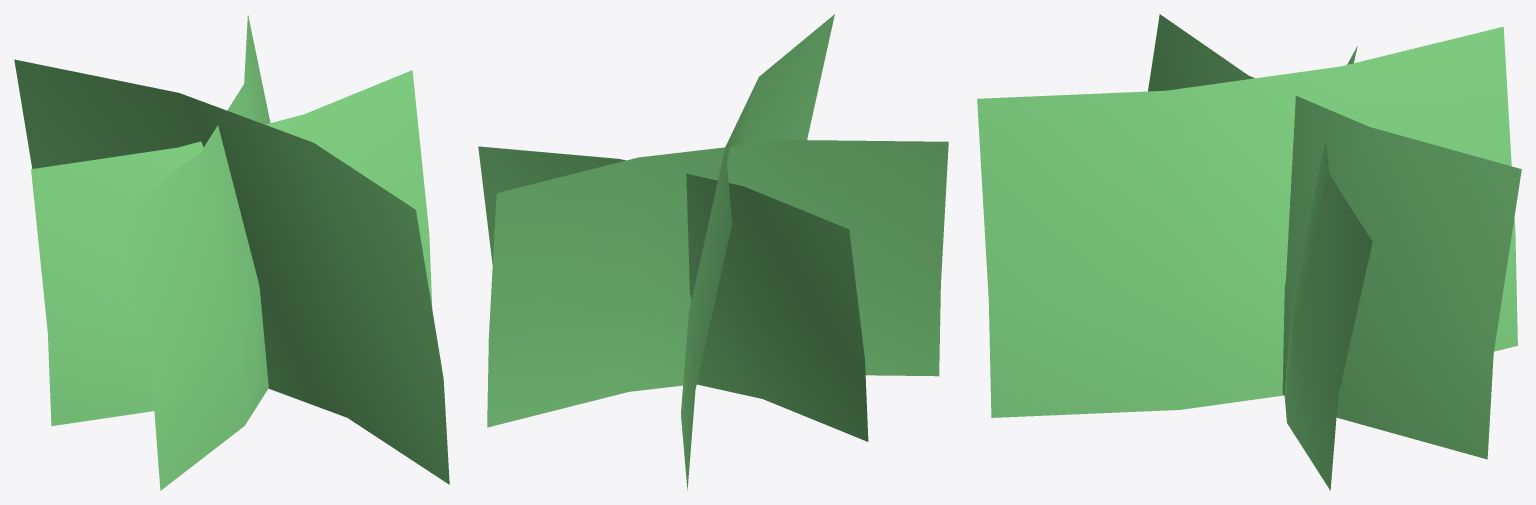
The model's file is GrassPlanes_a_TwoS_10.fbx.
3 views of the same model, side by side, from view 1: azimuth 30°, elevation 25°; view 2: azimuth 150°, elevation 25°; view 3: azimuth 270°, elevation 25° (orthographic). The views are drawn at different scales.
Visible parts, largest first — view 1: GrassPlanes_a_TwoS_10; view 2: GrassPlanes_a_TwoS_10; view 3: GrassPlanes_a_TwoS_10.
Boxes of the visible parts, box(x1,y1,x2,y2) form: GrassPlanes_a_TwoS_10: box(14, 15, 449, 490); GrassPlanes_a_TwoS_10: box(478, 14, 948, 490); GrassPlanes_a_TwoS_10: box(977, 14, 1521, 490).
Size of the model in its own units: 76.69 by 53.99 by 88.08.
